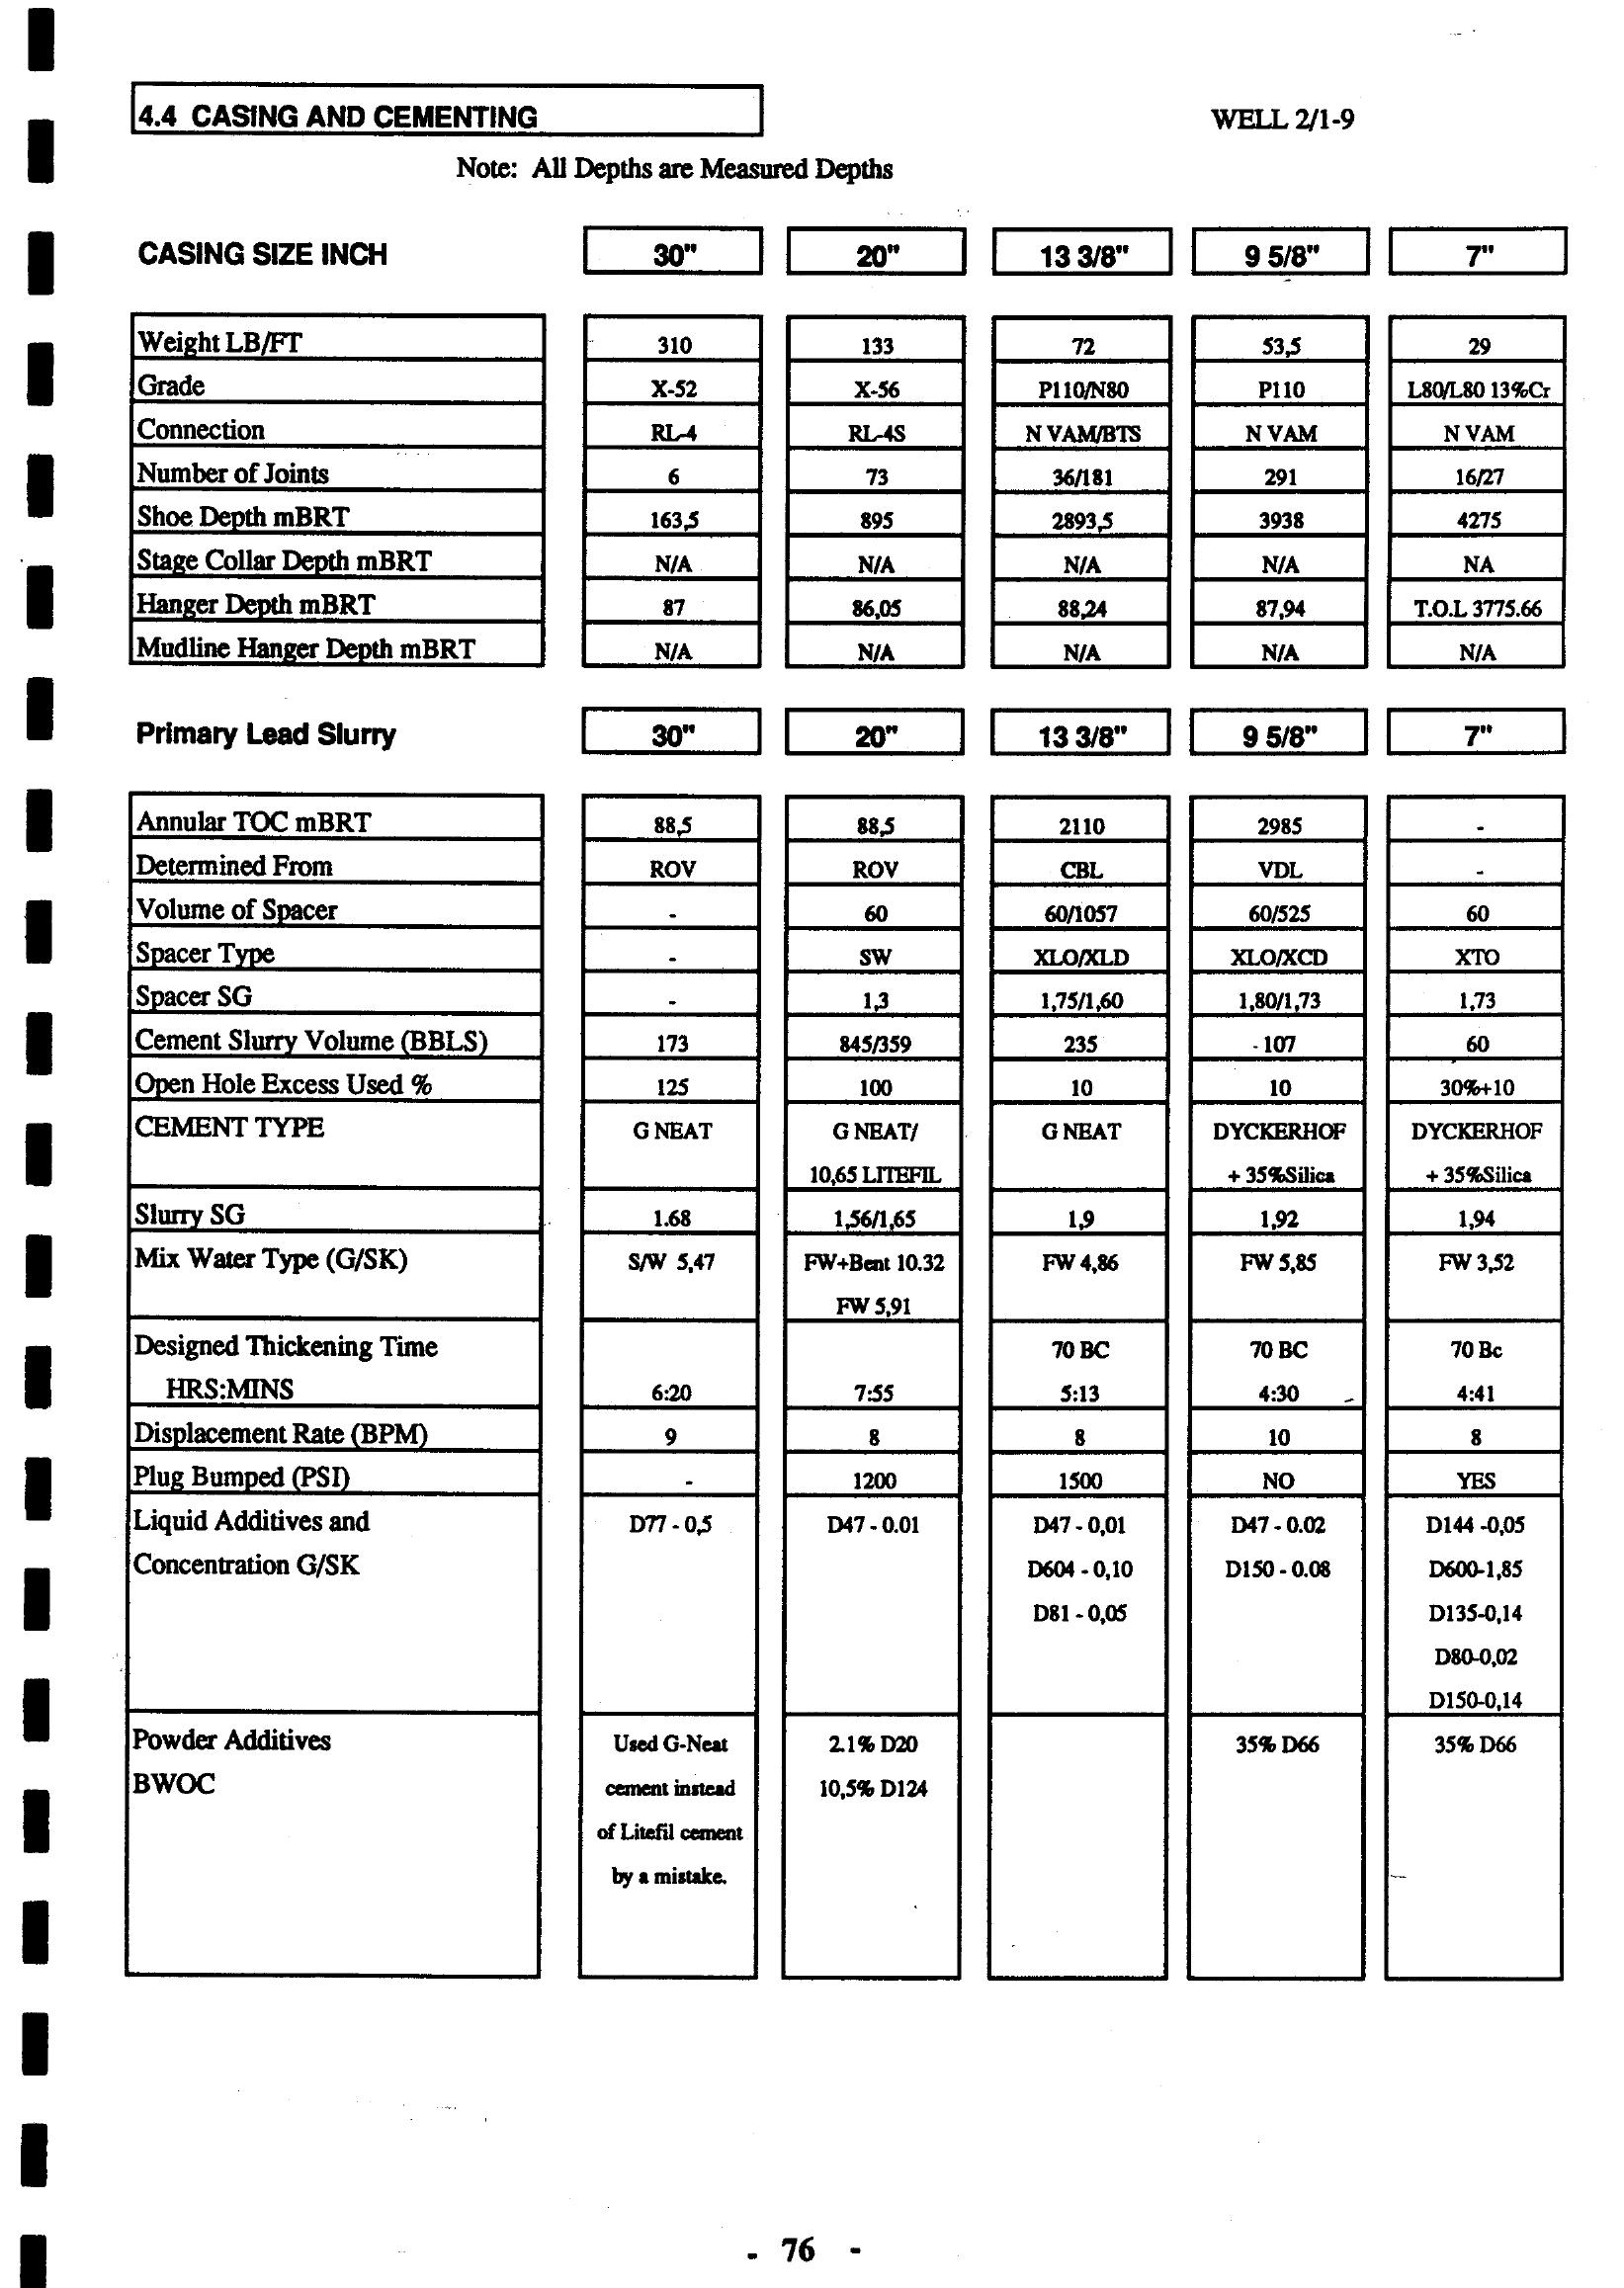table: (102, 74, 1596, 2014)
